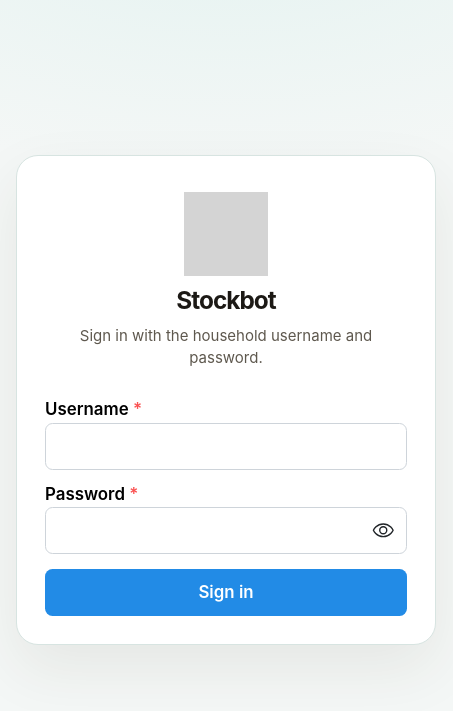
it: LoginPage › shows the server error and stays on the form
The image size is (453, 711).
Type "pantry" into the field labelled "Username *" at coordinates (226, 446), box [45,423,407,470]
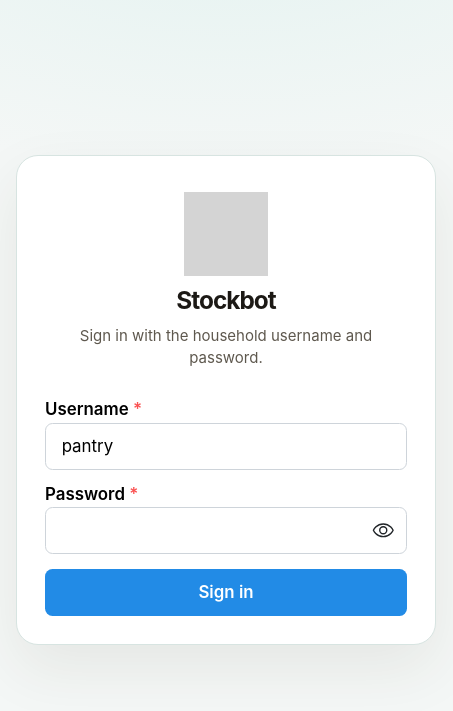
Type "nope" into the password field labelled "Password *" at coordinates (226, 530), box [46,508,406,553]
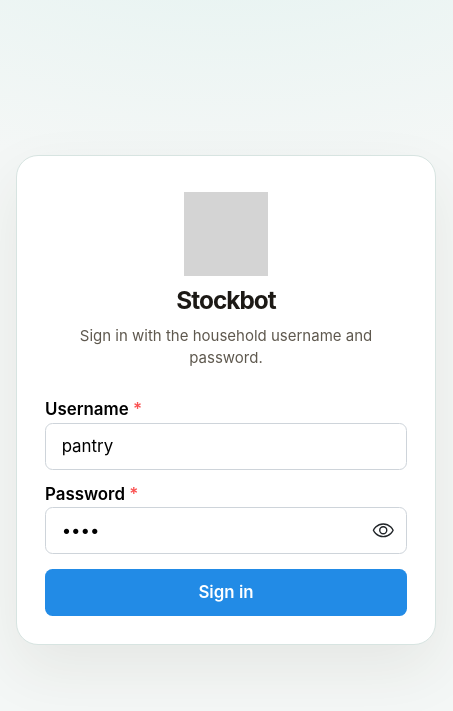
Click the button "Sign in" at coordinates (226, 592), box [45,569,407,616]
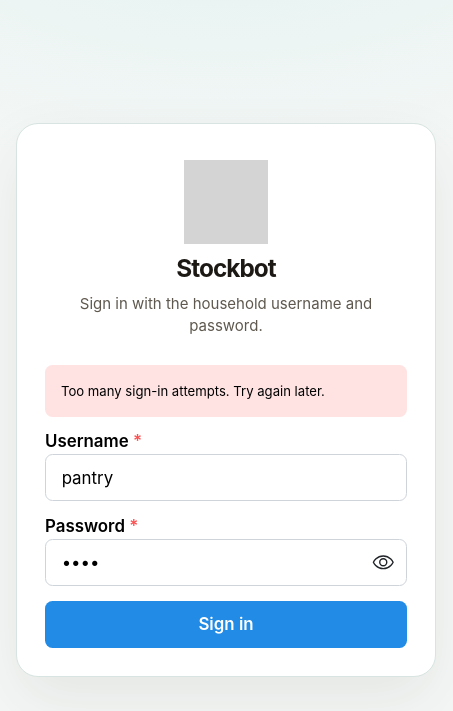
Expected: the form "Sign in" is shown, [45,365,407,648]
Now the message reads "Too many sign-in attempts. Try again later.", box [61,383,325,399]
